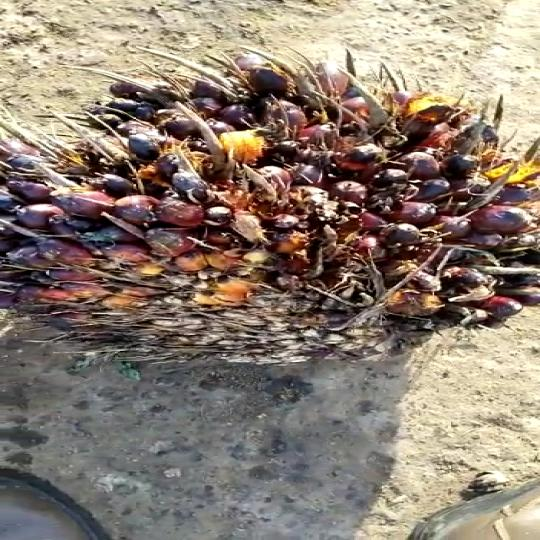masak: (0, 46, 540, 378)
